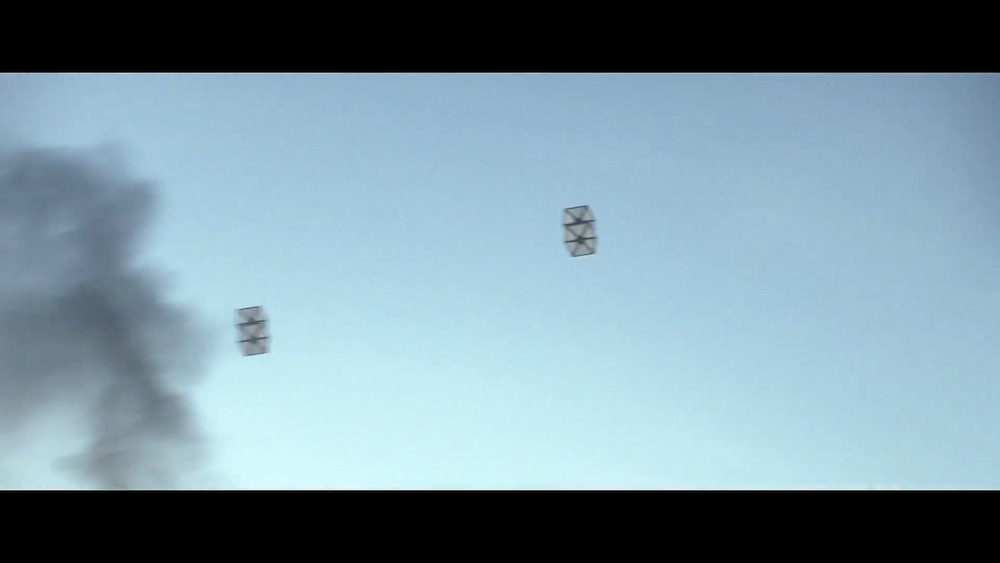Tie Fighter: (231, 306, 275, 358), (561, 204, 601, 260)
